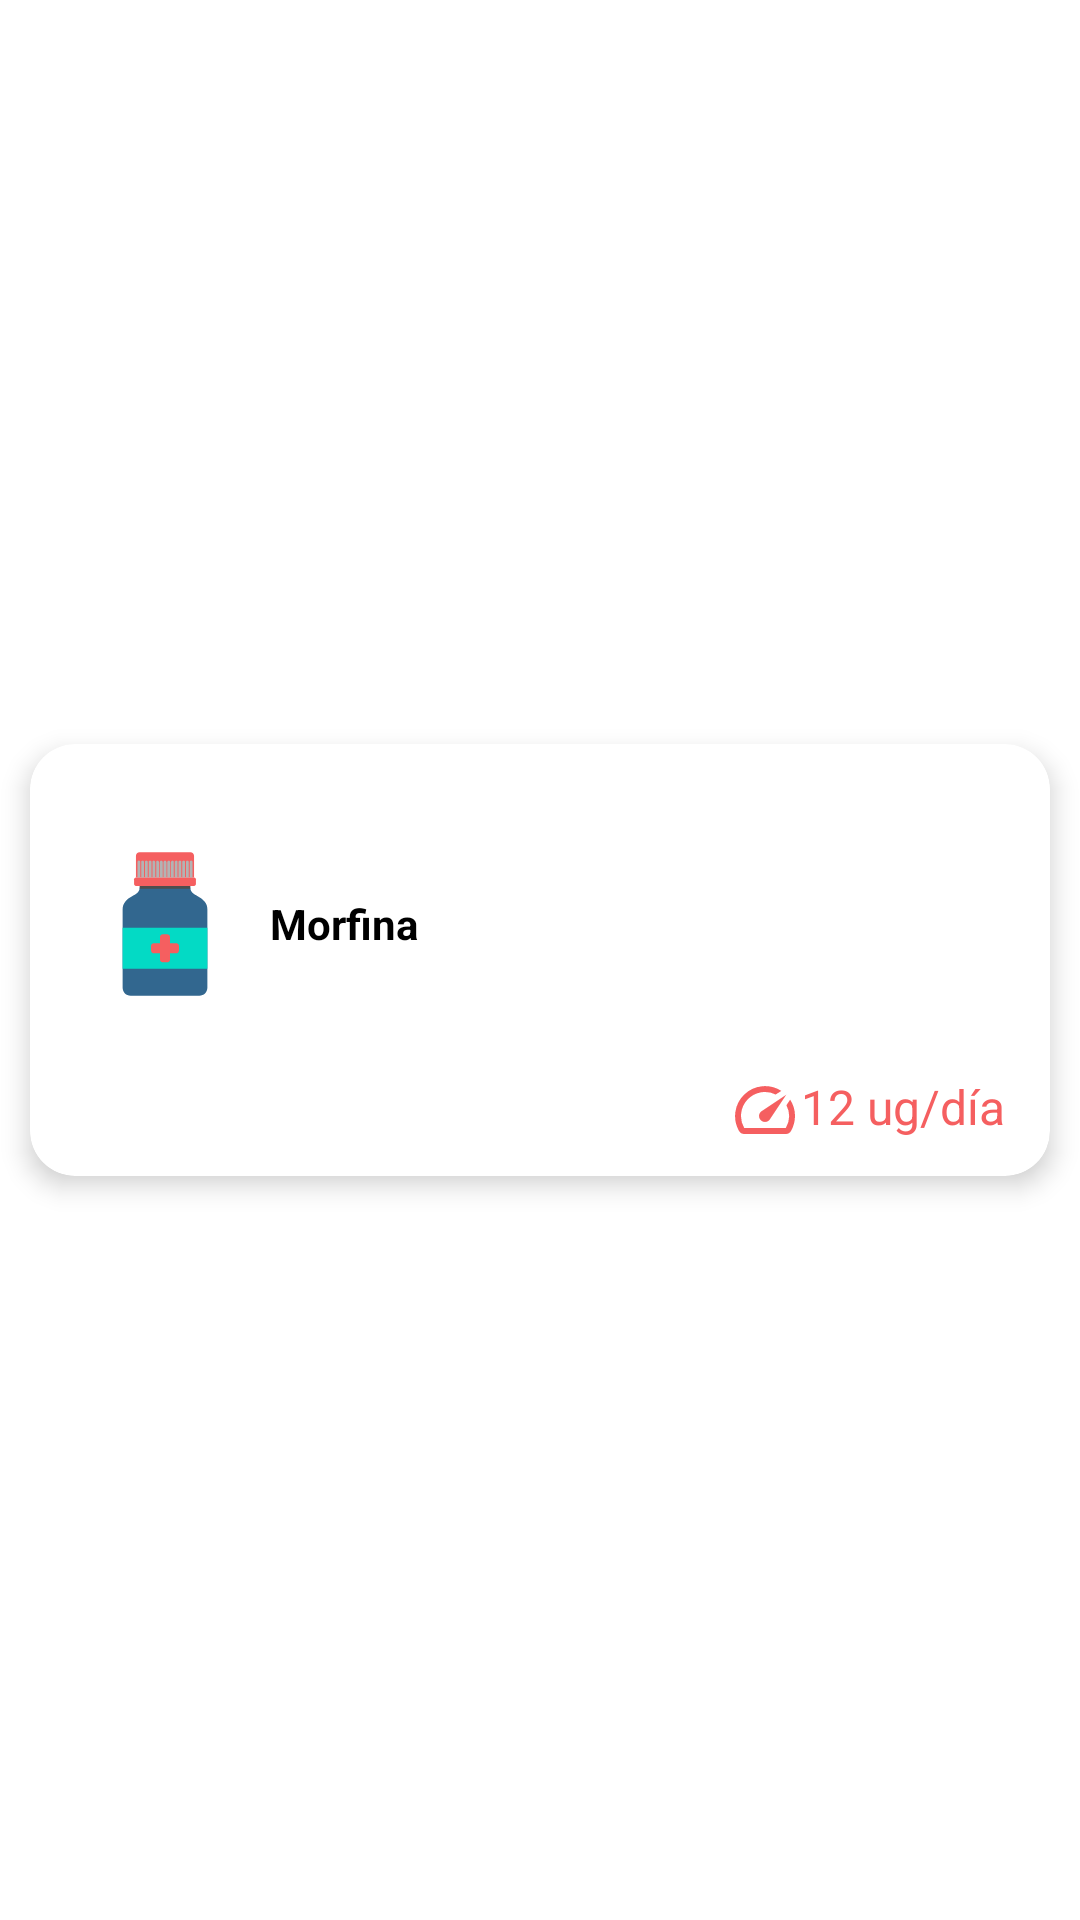

Locate icon controls on the screen. Image size 1080px×1920px, boxes as (x1,y1,x2,y2).
farmaco: (122,852,208,996)
